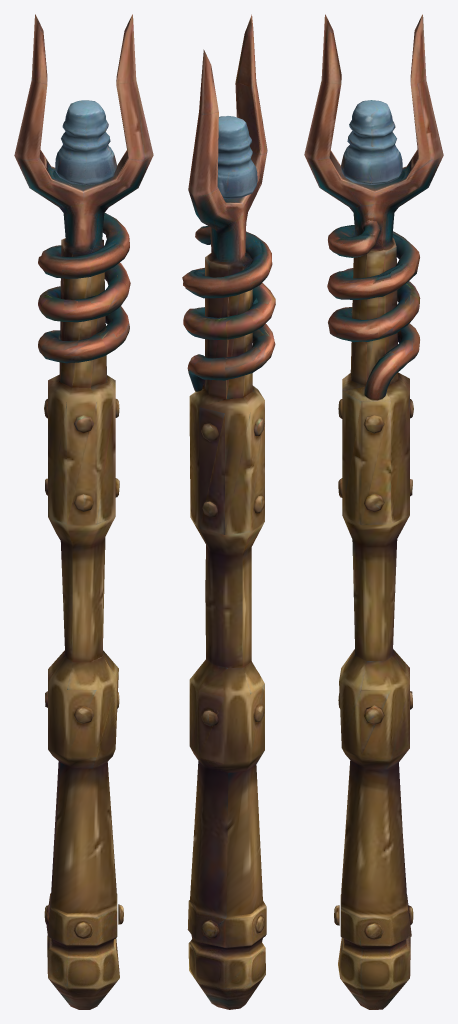
File: arc_lance.glb
3 views of the same model, side by side, from view 1: azimuth 90°, elevation 25°; view 2: azimuth 150°, elevation 25°; view 3: azimuth 270°, elevation 25° (orthographic).
Visible parts, largest first — view 1: Mesh_0; view 2: Mesh_0; view 3: Mesh_0.
Part boxes in pixels (bbox=[...]): Mesh_0: bbox=[14, 14, 153, 1009]; Mesh_0: bbox=[182, 14, 275, 1009]; Mesh_0: bbox=[304, 14, 443, 1009].
Size of the model in its own units: 0.0941 by 1.08 by 0.1378.
Materials: 1 (1 with a texture image).
